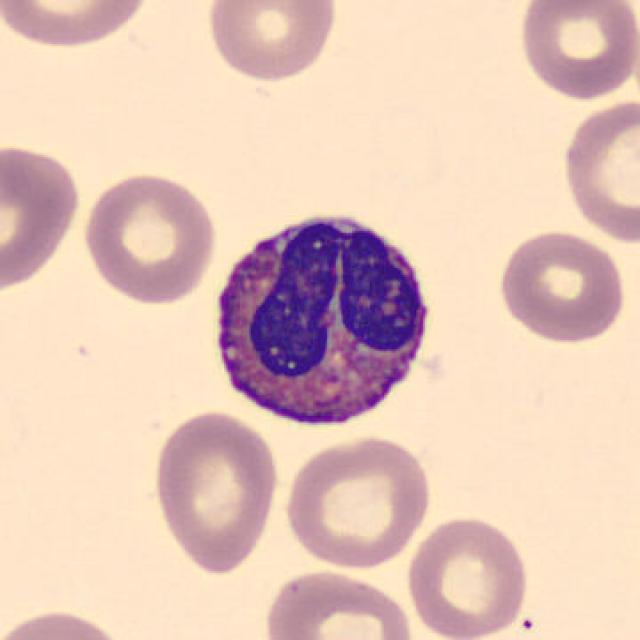Nuclei: (247, 223, 347, 379), (339, 231, 418, 350)
